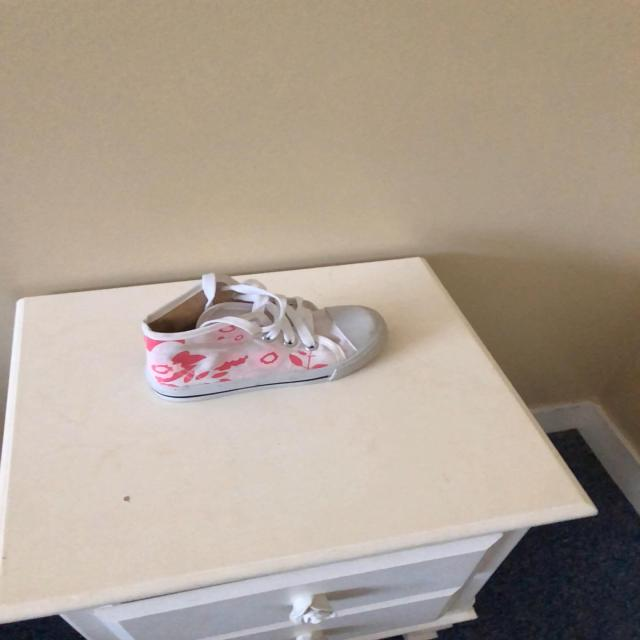shoe: (142, 282, 388, 402)
